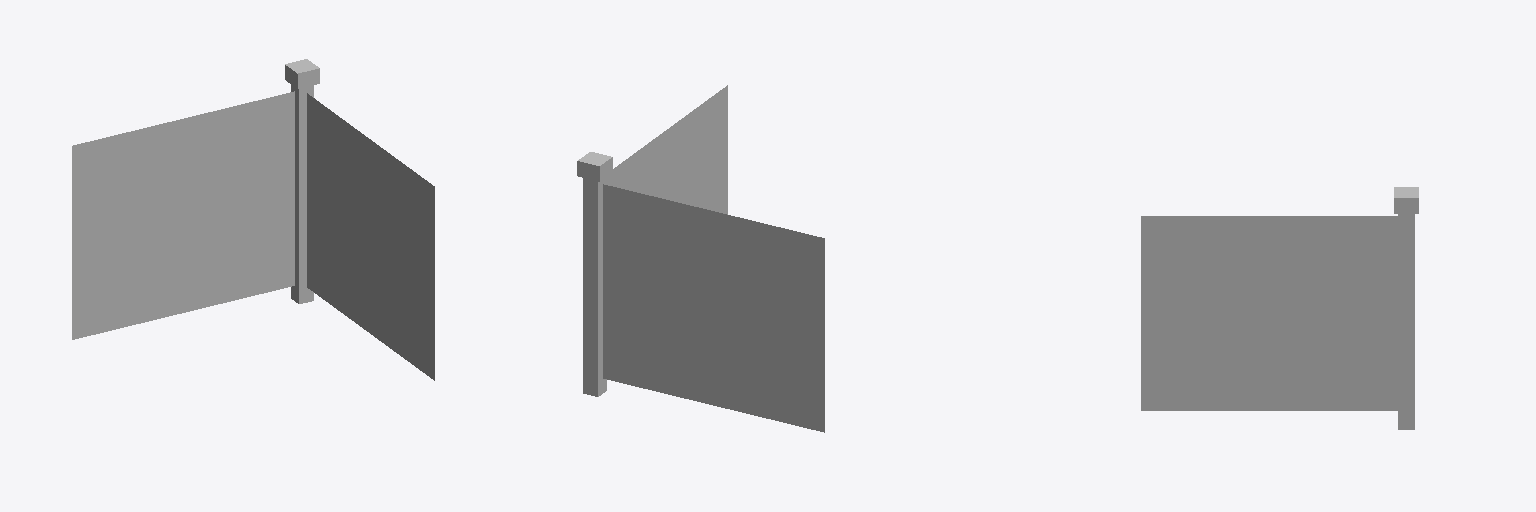
File: cerca_verde_esq.obj
3 views of the same model, side by side, from view 1: azimuth 30°, elevation 25°; view 2: azimuth 150°, elevation 25°; view 3: azimuth 270°, elevation 25° (orthographic).
Parts seen in each view (by area): view 1: grade1, grade2, toco, cabecote; view 2: grade1, grade2, toco, cabecote; view 3: grade2, toco, cabecote.
Part boxes in pixels (x1,y1,x2,y2): grade1: (72, 91, 294, 339); grade2: (307, 93, 434, 380); toco: (291, 85, 313, 303); cabecote: (285, 59, 319, 88); grade1: (603, 184, 824, 432); grade2: (607, 85, 727, 214); toco: (583, 177, 606, 396); cabecote: (577, 152, 612, 181); grade2: (1141, 216, 1397, 410); toco: (1398, 214, 1414, 429); cabecote: (1394, 187, 1418, 213).
Bounding box in the file's own units: 2.03 × 1.88 × 2.03.